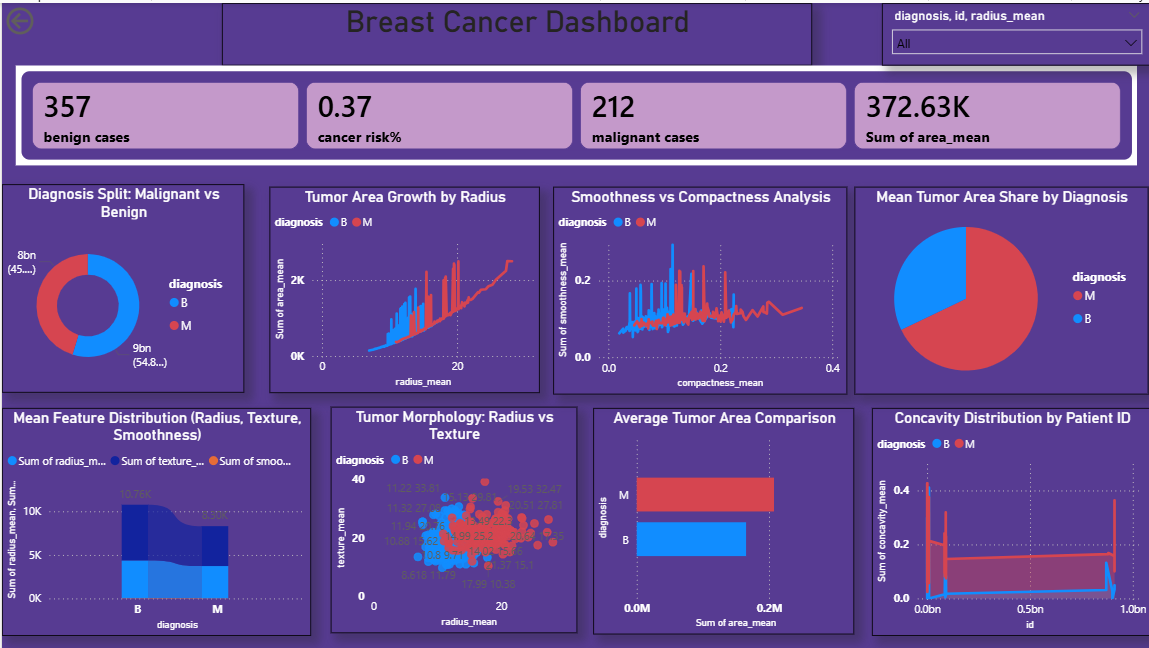

This screenshot's page, from the dashboard's own definition file:
{"tool":"powerbi","page":{"name":"Page 2","canvas":[1280,720],"ordinal":1},"visuals":[{"type":"donutChart","title":"Diagnosis Split: Malignant vs Benign","fields":{"Category":["brest.diagnosis"],"Y":["Sum(brest.id)"]},"box":[0,201.7,269.9,232.3],"z":0},{"type":"lineChart","title":"Tumor Area Growth by Radius","fields":{"Category":["brest.radius_mean"],"Y":["Sum(brest.area_mean)"],"Series":["brest.diagnosis"]},"box":[297.7,204.5,300.5,229.6],"z":1000},{"type":"scatterChart","title":"Tumor Morphology: Radius vs Texture","fields":{"Y":["brest.texture_mean"],"Series":["brest.diagnosis"],"X":["brest.radius_mean"]},"box":[365.9,449.4,274.1,251.8],"z":2000},{"type":"clusteredBarChart","title":"Average Tumor Area Comparison","fields":{"Category":["brest.diagnosis"],"Y":["Sum(brest.area_mean)"]},"box":[658.1,450.8,290.8,251.8],"z":3000},{"type":"lineChart","title":"Smoothness vs Compactness Analysis","fields":{"Category":["brest.compactness_mean"],"Y":["Sum(brest.smoothness_mean)"],"Series":["brest.diagnosis"]},"box":[613.6,204.5,327,231],"z":4000},{"type":"stackedAreaChart","title":"Concavity Distribution by Patient ID","fields":{"Category":["brest.id"],"Y":["Sum(brest.concavity_mean)"],"Series":["brest.diagnosis"]},"box":[968.3,450.8,311.7,253.2],"z":5000},{"type":"pieChart","title":"Mean Tumor Area Share by Diagnosis","fields":{"Category":["brest.diagnosis"],"Y":["Avg(brest.area_mean)"]},"box":[948.9,204.5,327,231],"z":6000},{"type":"ribbonChart","title":"Mean Feature Distribution (Radius, Texture, Smoothness)","fields":{"Category":["brest.diagnosis"],"Y":["Sum(brest.radius_mean)","Sum(brest.texture_mean)","Sum(brest.smoothness_mean)"]},"box":[0,450.8,343.7,253.2],"z":8000},{"type":"shape","title":"Breast Cancer Dashboard","box":[244.9,0,656.7,69.6],"z":8002},{"type":"cardVisual","fields":{"Data":["brest.benign cases","brest.cancer risk%","brest.malignant cases","Sum(brest.area_mean)"]},"box":[15.3,69.6,1248,111.3],"z":8003},{"type":"slicer","fields":{"Values":["brest.diagnosis","brest.id","brest.radius_mean"]},"box":[979.5,0,300.5,69.6],"z":8004},{"type":"actionButton","box":[0,0,100,40],"z":8005}]}

Visuals, with their boxes in screenshot pixels (x1, y1, x2, y2), scaled from the page's 1280x720 canvas onto the 1149x648 screenshot:
"Diagnosis Split: Malignant vs Benign" donutChart: [0, 182, 242, 391]
"Tumor Area Growth by Radius" lineChart: [267, 184, 537, 391]
"Tumor Morphology: Radius vs Texture" scatterChart: [328, 404, 574, 631]
"Average Tumor Area Comparison" clusteredBarChart: [591, 406, 852, 632]
"Smoothness vs Compactness Analysis" lineChart: [551, 184, 844, 392]
"Concavity Distribution by Patient ID" stackedAreaChart: [869, 406, 1148, 634]
"Mean Tumor Area Share by Diagnosis" pieChart: [852, 184, 1145, 392]
"Mean Feature Distribution (Radius, Texture, Smoothness)" ribbonChart: [0, 406, 309, 634]
"Breast Cancer Dashboard" shape: [220, 0, 809, 63]
cardVisual - brest.benign cases x brest.cancer risk%: [14, 63, 1134, 163]
slicer - brest.diagnosis x brest.id: [879, 0, 1148, 63]
actionButton: [0, 0, 90, 36]
